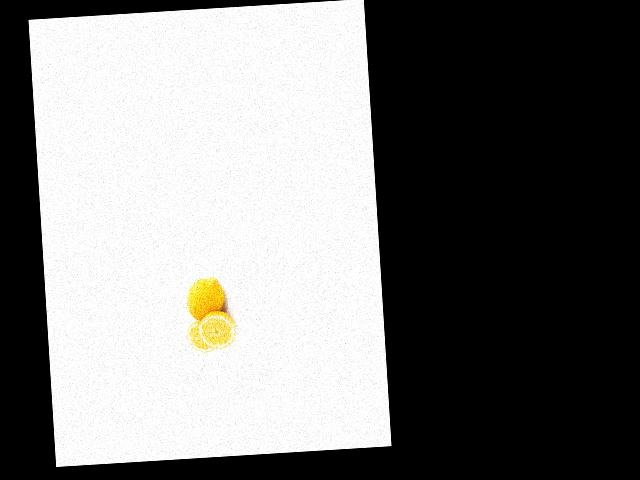lemon: (183, 273, 226, 322)
